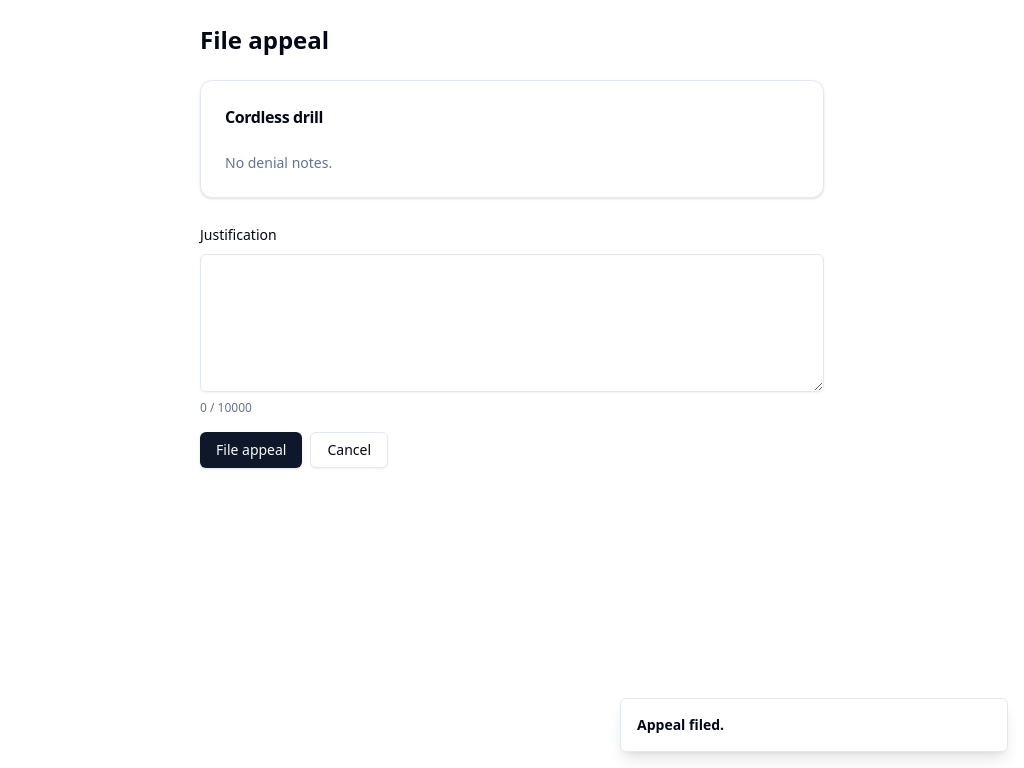
it: NewAppealPage › shows quota toast on 422
Type "Please reconsider" into the text box labelled "Justification".
click(512, 323); type("Please reconsider")  # box 200,254 -> 824,392
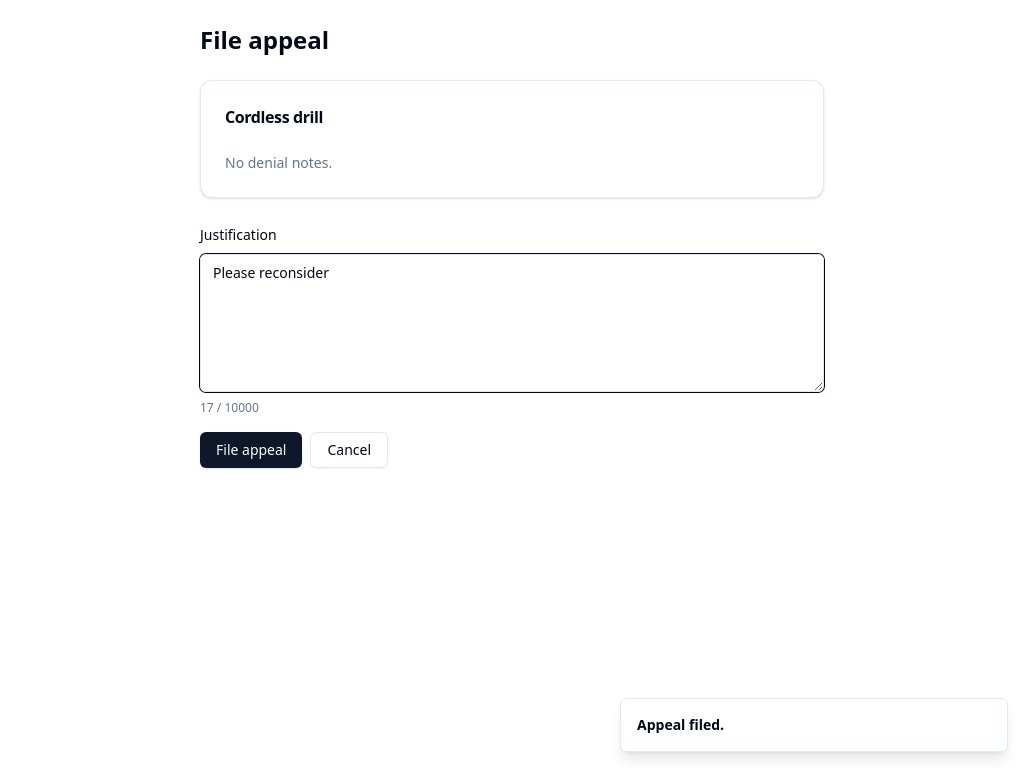
Click the button "File appeal".
click(251, 450)  # box 200,432 -> 302,468
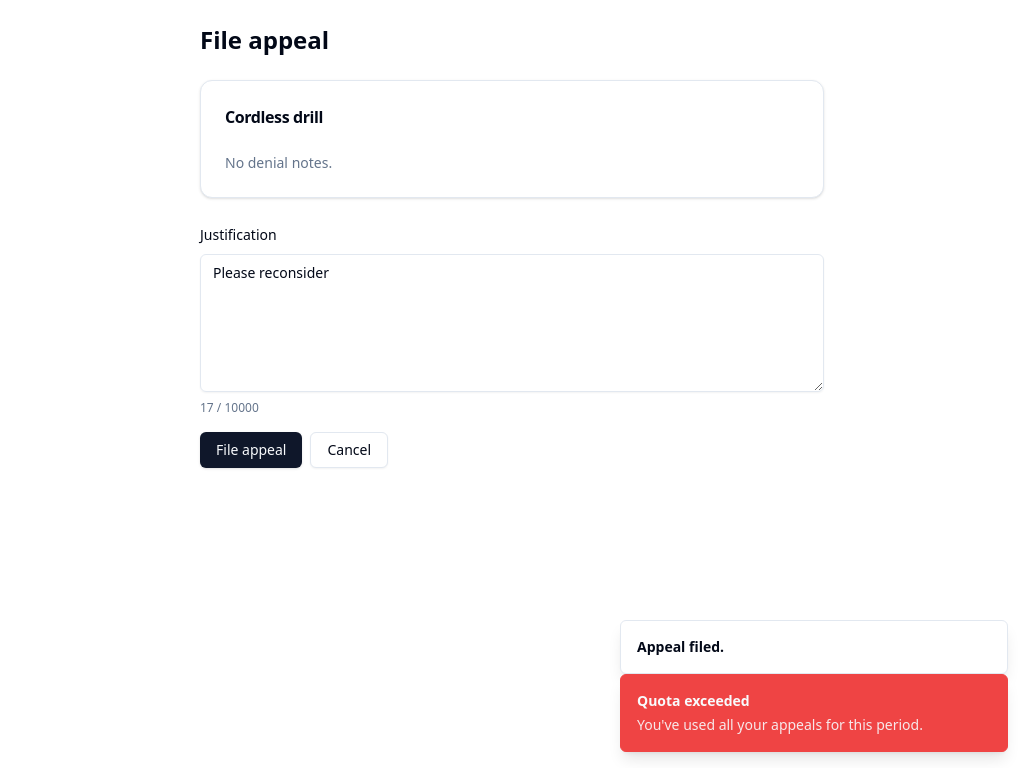
Now the text "You've used all your appeals for this period." is shown, box 637,715 -> 923,735
